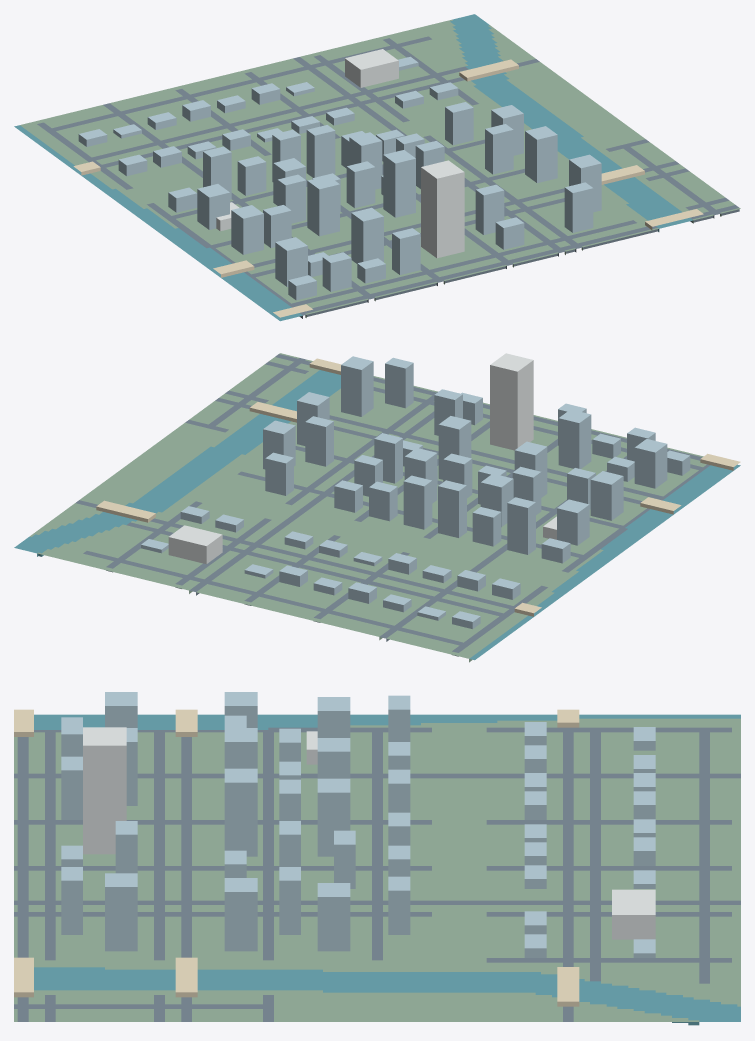
The model's file is sector-center.glb.
The picture shows the model from 3 angles, top to bottom: view 1: azimuth 30°, elevation 25°; view 2: azimuth 150°, elevation 25°; view 3: azimuth 270°, elevation 25°; orthographic projection. The views are drawn at different scales.
Visible parts, largest first — view 1: material_1, material_4, material_2, material_3, material_5, material_6; view 2: material_1, material_4, material_2, material_3, material_5, material_6; view 3: material_1, material_4, material_2, material_3, material_5, material_6.
Boxes of the visible parts, left/top/right/bottom form: material_1: left=20, top=19, right=740, bottom=317; material_4: left=78, top=56, right=601, bottom=300; material_2: left=37, top=36, right=739, bottom=318; material_3: left=14, top=14, right=693, bottom=321; material_5: left=216, top=49, right=464, bottom=258; material_6: left=73, top=59, right=703, bottom=317; material_1: left=30, top=353, right=706, bottom=662; material_4: left=141, top=356, right=690, bottom=629; material_2: left=76, top=354, right=710, bottom=656; material_3: left=14, top=370, right=740, bottom=660; material_5: left=168, top=353, right=556, bottom=564; material_6: left=96, top=358, right=740, bottom=616; material_1: left=14, top=718, right=740, bottom=1021; material_4: left=61, top=692, right=655, bottom=957; material_2: left=14, top=727, right=740, bottom=1021; material_3: left=34, top=714, right=740, bottom=1025; material_5: left=83, top=727, right=655, bottom=939; material_6: left=14, top=709, right=579, bottom=1006.
Bounding box in the file's own units: 1333 × 230 × 1333.
